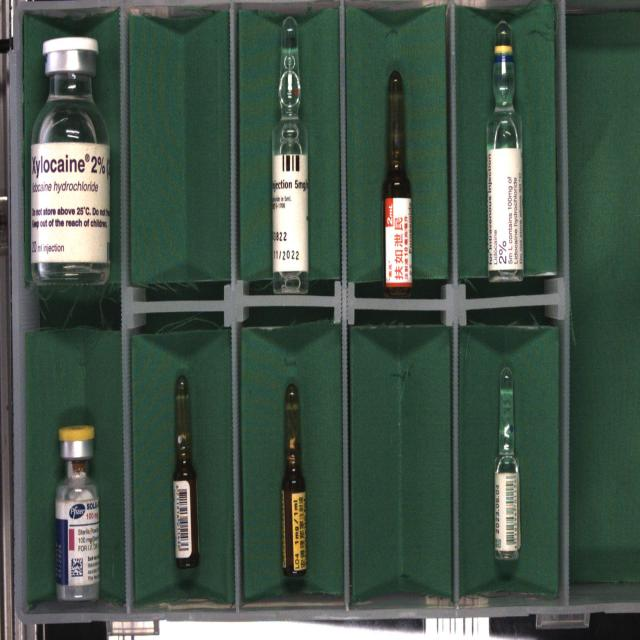Vials: (30, 37, 110, 284), (55, 425, 100, 600)
